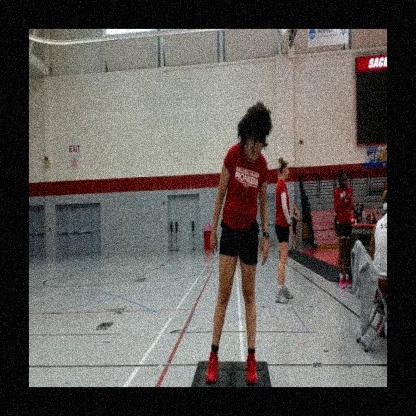lateral_flexion_left: (204, 93, 274, 387)
stance_width_normal: (202, 146, 272, 386)
